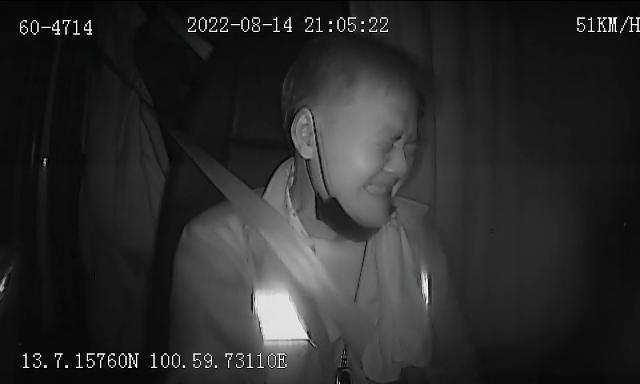Seatbelt: (172, 131, 380, 384)
